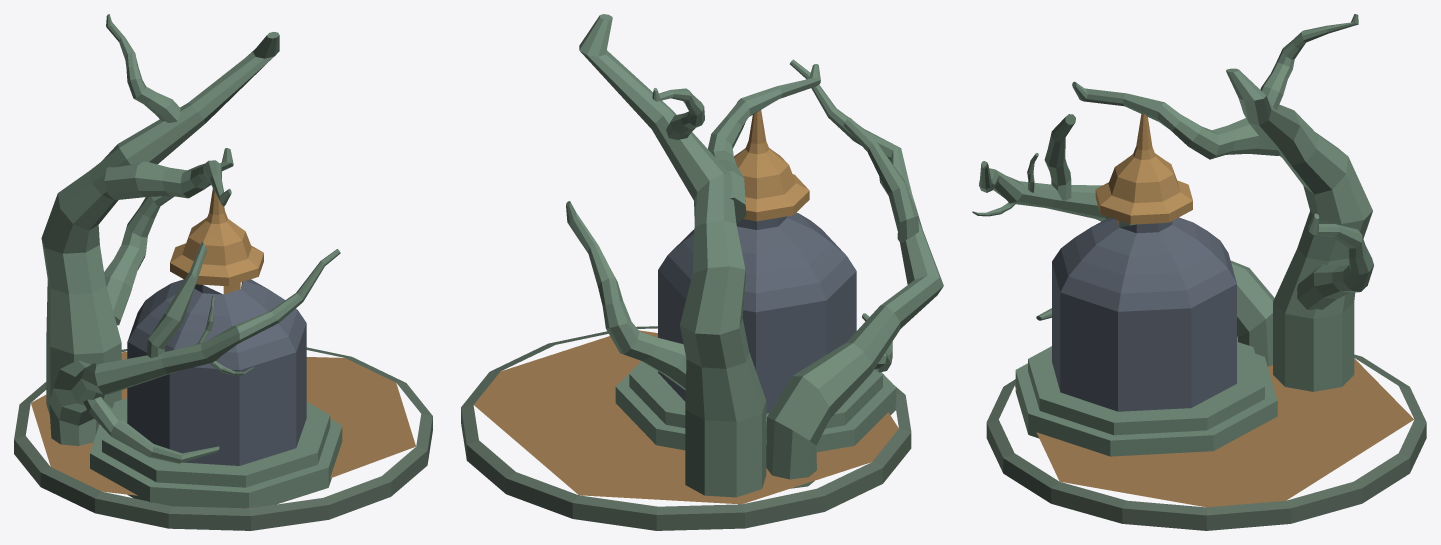
Rendered from free-pagoda-ruin.glb.
3 renders of one model, left to right at view 1: azimuth 30°, elevation 25°; view 2: azimuth 150°, elevation 25°; view 3: azimuth 270°, elevation 25°, orthographic. The views are drawn at different scales.
Visible parts, largest first — view 1: Cylinder007_Tree_0, Cylinder004_Pagoda_0, Cylinder_Bricks_0, Cylinder_Grounds_0, Cylinder004_PagodaTop_0; view 2: Cylinder007_Tree_0, Cylinder_Grounds_0, Cylinder004_Pagoda_0, Cylinder_Bricks_0, Cylinder004_PagodaTop_0; view 3: Cylinder007_Tree_0, Cylinder004_Pagoda_0, Cylinder_Grounds_0, Cylinder_Bricks_0, Cylinder004_PagodaTop_0.
Boxes of the visible parts, left/top/right/bottom form: Cylinder007_Tree_0: left=41, top=14, right=342, bottom=508; Cylinder004_Pagoda_0: left=127, top=279, right=306, bottom=465; Cylinder_Bricks_0: left=14, top=347, right=432, bottom=530; Cylinder_Grounds_0: left=31, top=352, right=415, bottom=508; Cylinder004_PagodaTop_0: left=170, top=188, right=263, bottom=294; Cylinder007_Tree_0: left=566, top=14, right=943, bottom=497; Cylinder_Grounds_0: left=474, top=330, right=898, bottom=504; Cylinder004_Pagoda_0: left=658, top=212, right=856, bottom=413; Cylinder_Bricks_0: left=461, top=326, right=911, bottom=530; Cylinder004_PagodaTop_0: left=734, top=110, right=809, bottom=221; Cylinder007_Tree_0: left=972, top=14, right=1373, bottom=456; Cylinder004_Pagoda_0: left=1052, top=217, right=1236, bottom=411; Cylinder_Grounds_0: left=1015, top=337, right=1413, bottom=507; Cylinder_Bricks_0: left=986, top=354, right=1426, bottom=530; Cylinder004_PagodaTop_0: left=1095, top=113, right=1192, bottom=226.
Size of the model in its own units: 13.88 by 14 by 14.33.
